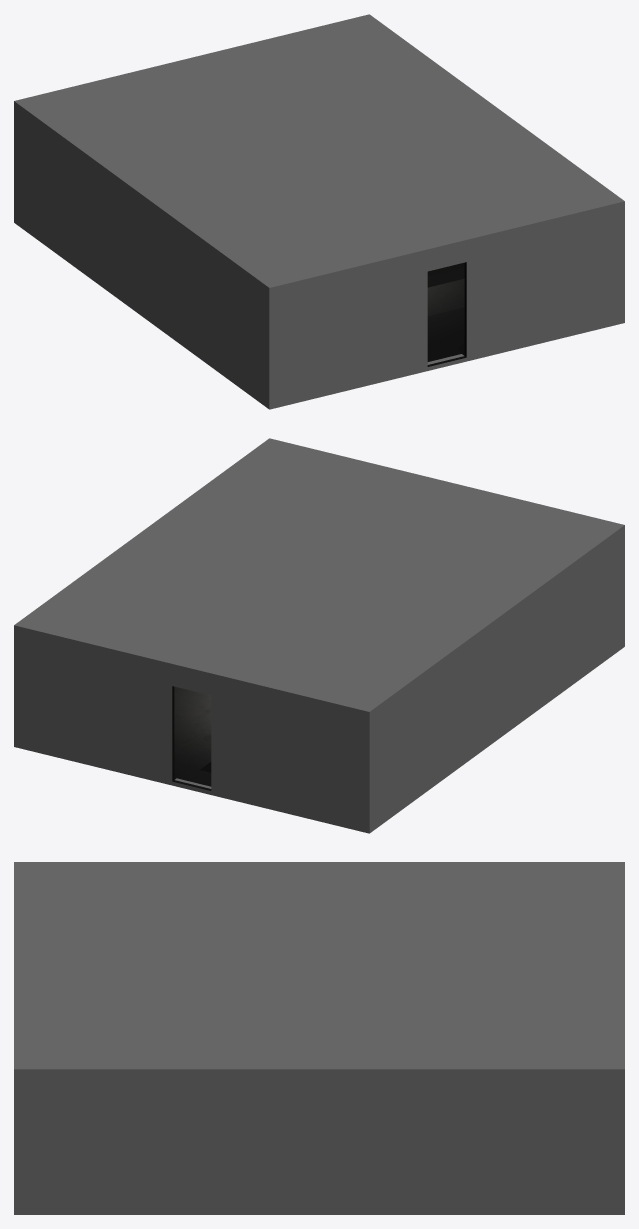
File: seminar-bot-svet.gltf
3 views of the same model, one above another, from view 1: azimuth 30°, elevation 25°; view 2: azimuth 150°, elevation 25°; view 3: azimuth 270°, elevation 25° (orthographic). The views are drawn at different scales.
Parts seen in each view (by area): view 1: Soba1; view 2: Soba1; view 3: Soba1.
Part boxes in pixels (x1,y1,x2,y2): Soba1: (14,14,624,409); Soba1: (14,438,624,833); Soba1: (14,862,624,1214).
Bounding box in the file's own units: 8.17 × 2.67 × 10.17.
4 materials, 3 textured.
